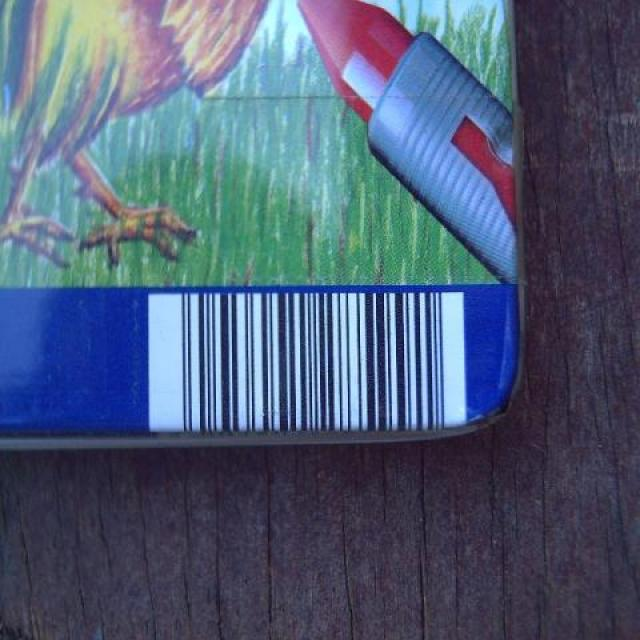Barcode: (148, 291, 469, 433)
